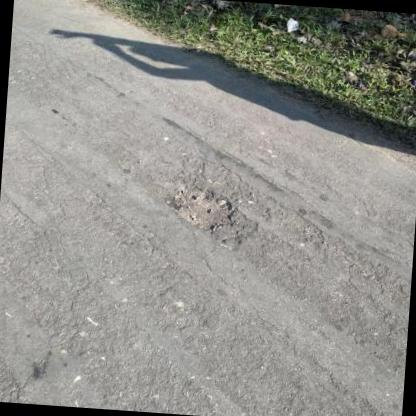pothole: (170, 184, 238, 234)
